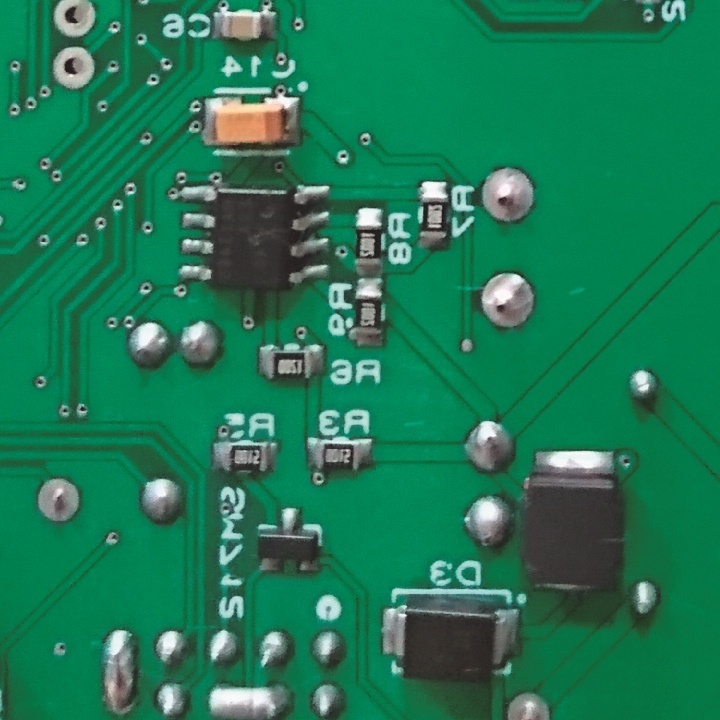F: (478, 163, 539, 227), (478, 269, 537, 333), (34, 475, 82, 526), (50, 44, 98, 95), (52, 1, 99, 44), (503, 689, 557, 720)
P: (97, 622, 140, 720), (204, 678, 297, 720)
